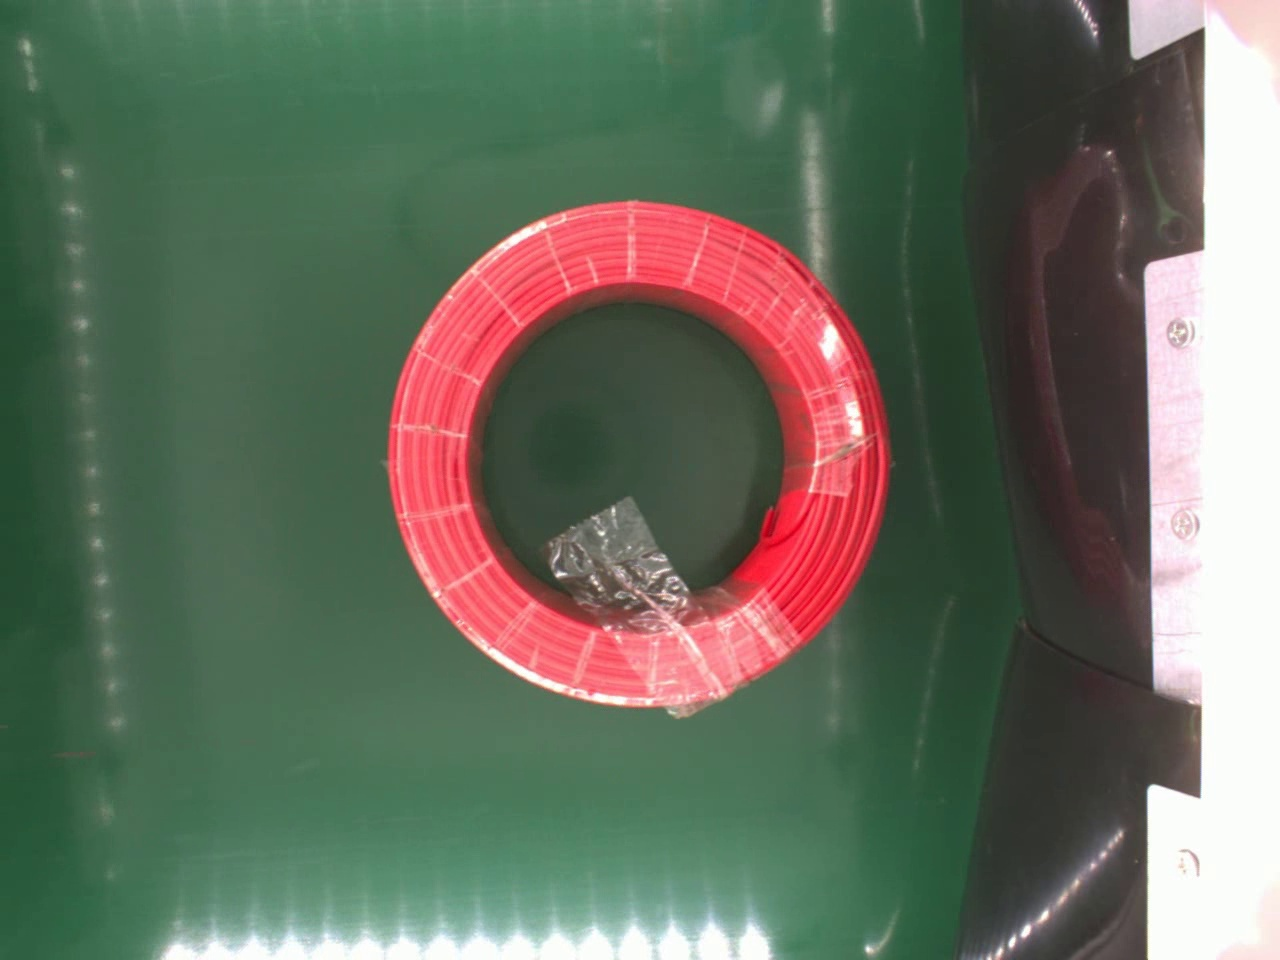red: (390, 199, 888, 715)
